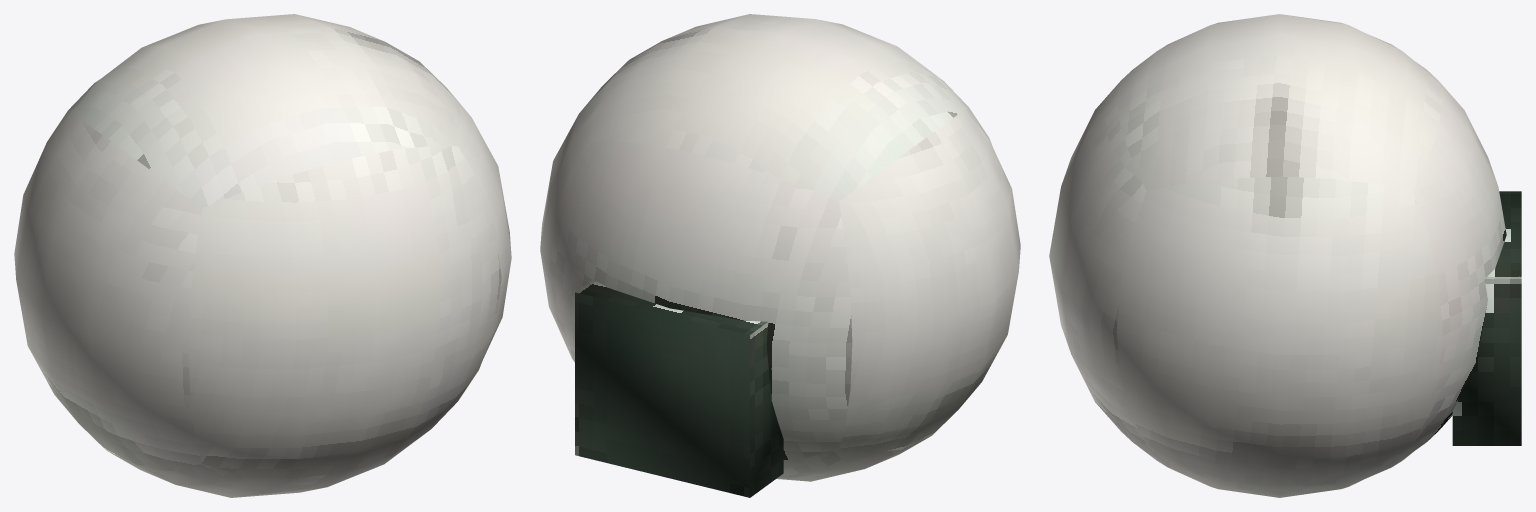
The model's file is pellet_onigiri.glb.
The picture shows the model from 3 angles, left to right: view 1: azimuth 30°, elevation 25°; view 2: azimuth 150°, elevation 25°; view 3: azimuth 270°, elevation 25°; orthographic projection. The views are drawn at different scales.
Visible parts, largest first — view 1: prop_pellet_onigiri_felt; view 2: prop_pellet_onigiri_felt; view 3: prop_pellet_onigiri_felt.
Part boxes in pixels (left/top/right/bottom): prop_pellet_onigiri_felt: left=14, top=14, right=511, bottom=497; prop_pellet_onigiri_felt: left=540, top=14, right=1020, bottom=497; prop_pellet_onigiri_felt: left=1049, top=14, right=1521, bottom=497.
Size of the model in its own units: 0.066 by 0.063 by 0.0615.
Materials: 1 (1 with a texture image).
